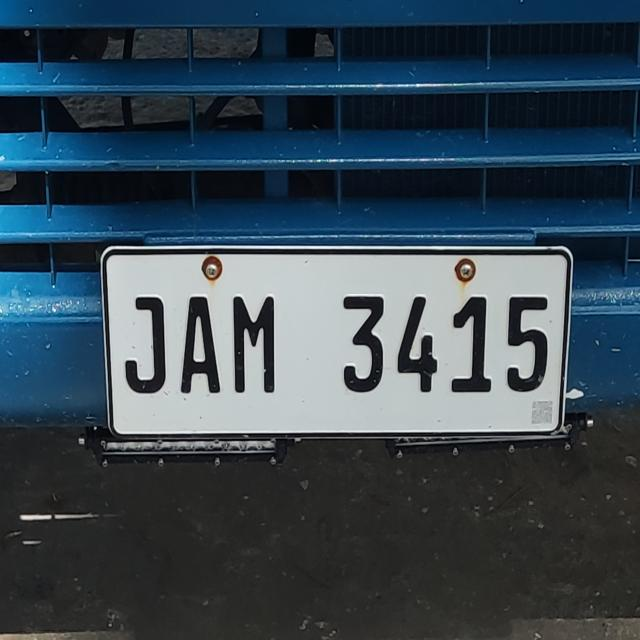plate: (99, 240, 576, 441)
